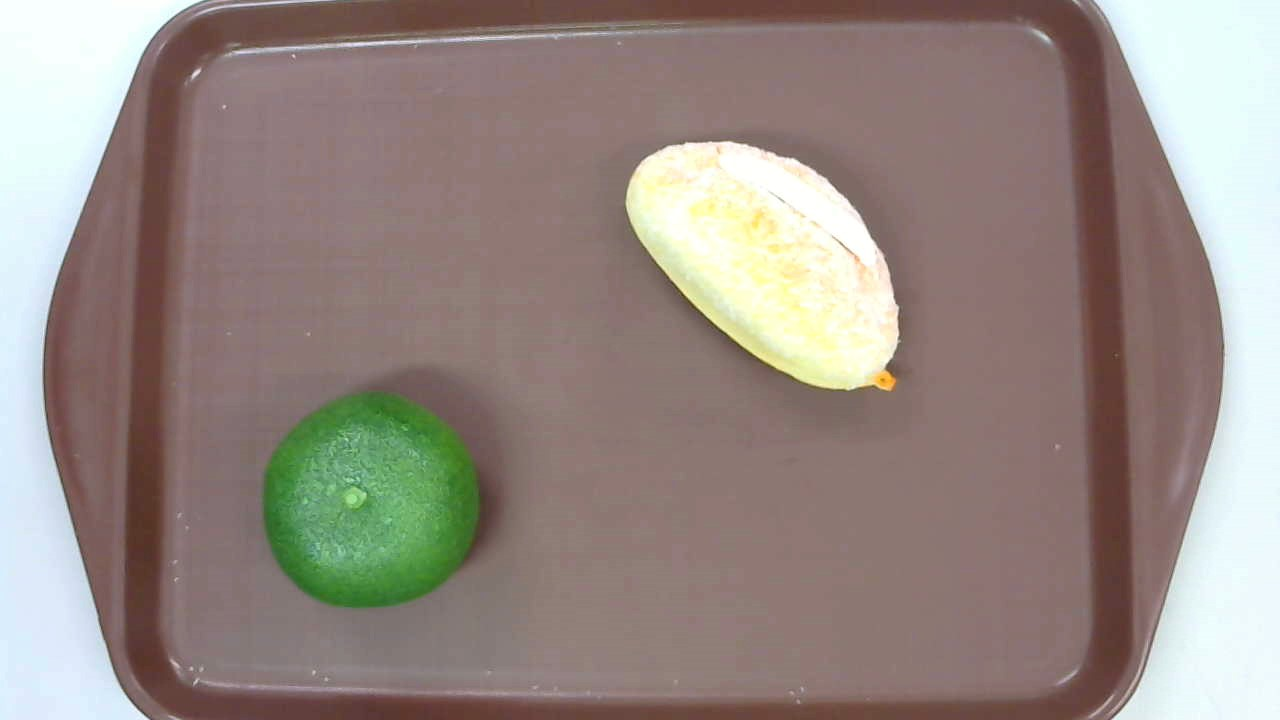coconut: (625, 140, 901, 391)
green orange: (263, 391, 479, 609)
